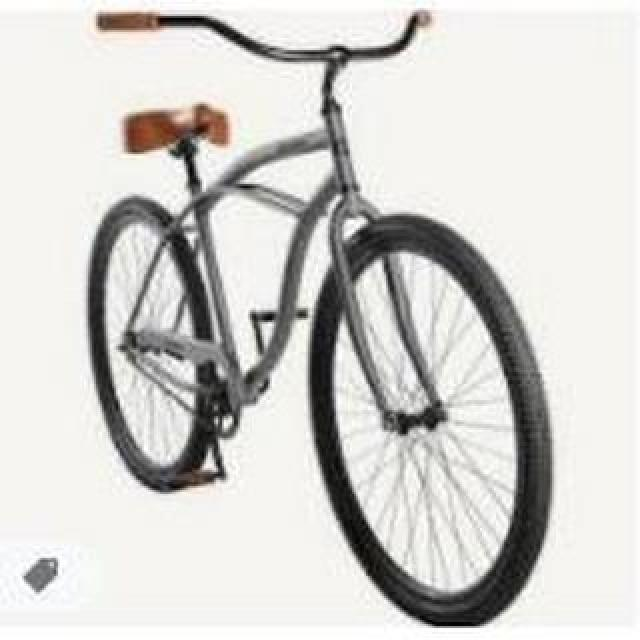Person: (78, 7, 558, 623)
